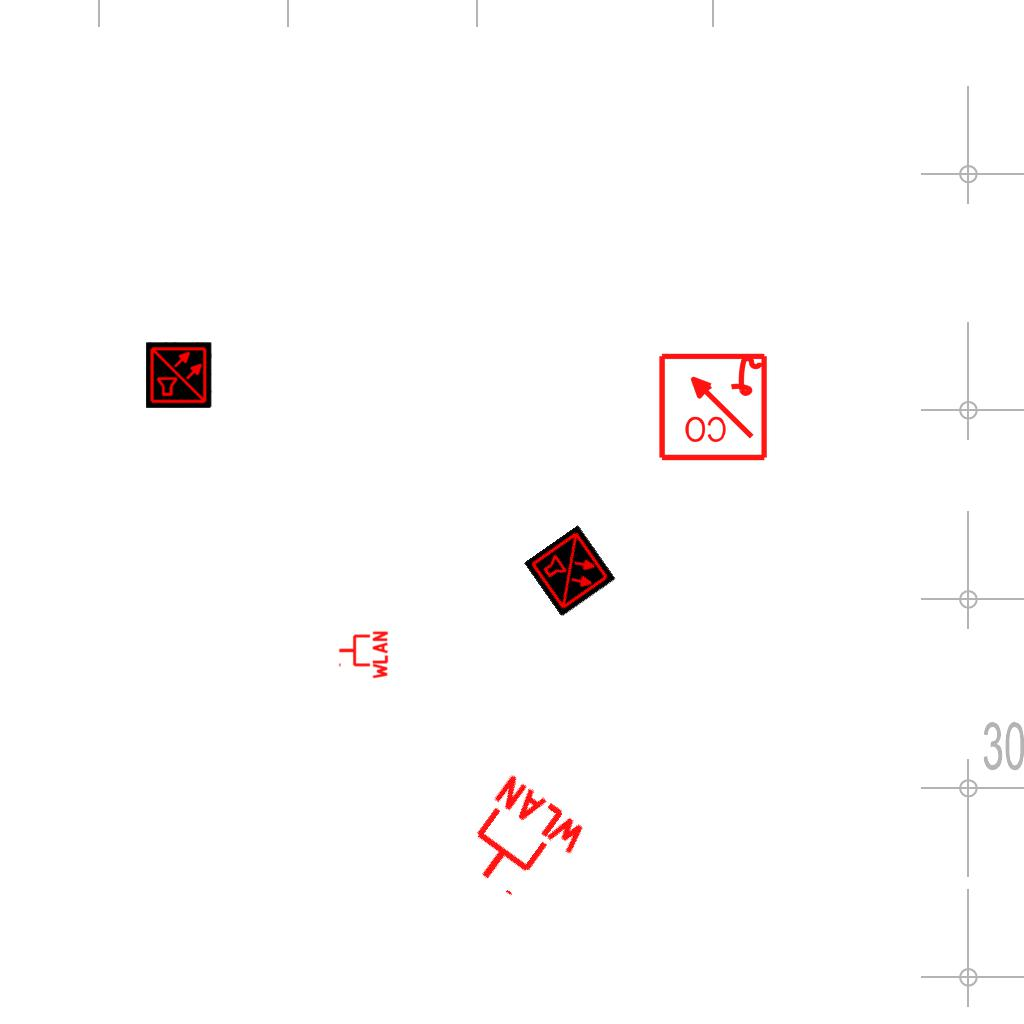OKW_Multisensormelder_(Kombination_optischer_Rauch-Kahlenmonoxid_Waerme-Melder): (524, 525, 616, 617), (146, 342, 212, 408)
ROA_Rauchmelder_optisch_mit_Signalgeber_(Sockelsirene): (656, 349, 769, 462)
WLAN: (447, 769, 594, 917), (337, 629, 389, 681)
